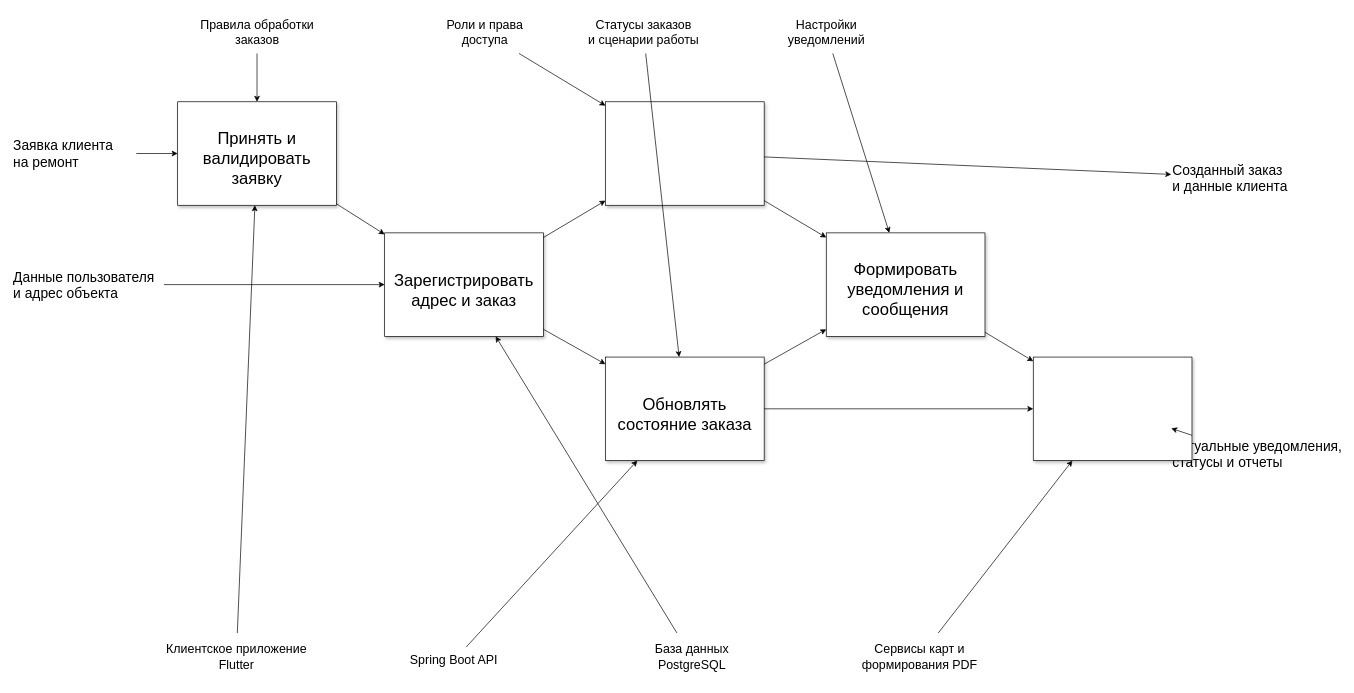
The diagram is 1354 pixels wide and 693 high, and some of its shapes have lost their labels. The centre of each missing label's shape, as x and y in pixels:
"Назначить бригадира и мастеров" belongs at [685,154].
"Отобразить результаты в интерфейсе" belongs at [1113,409].
